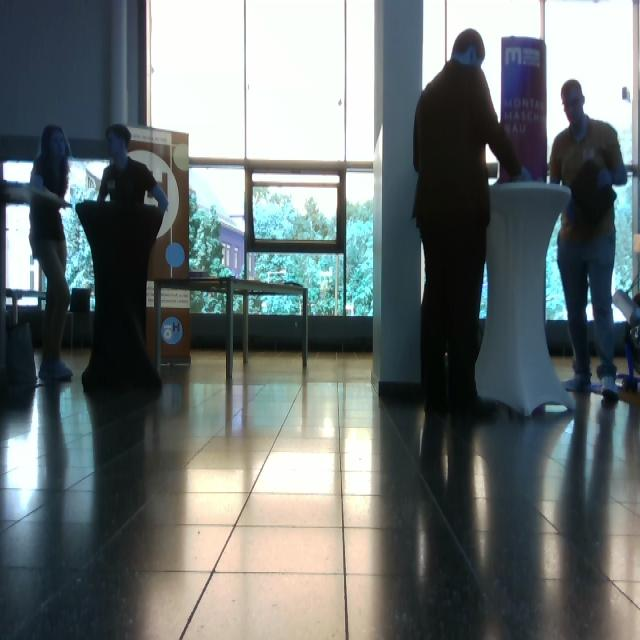door: (2, 128, 190, 365)
light bulb: (165, 242, 185, 268), (173, 144, 190, 172), (486, 161, 500, 185)
person: (412, 29, 524, 418), (549, 78, 628, 401), (28, 124, 74, 382)
pillar: (371, 1, 424, 397)
tiled floor: (2, 345, 639, 638)
window: (146, 1, 377, 321)
